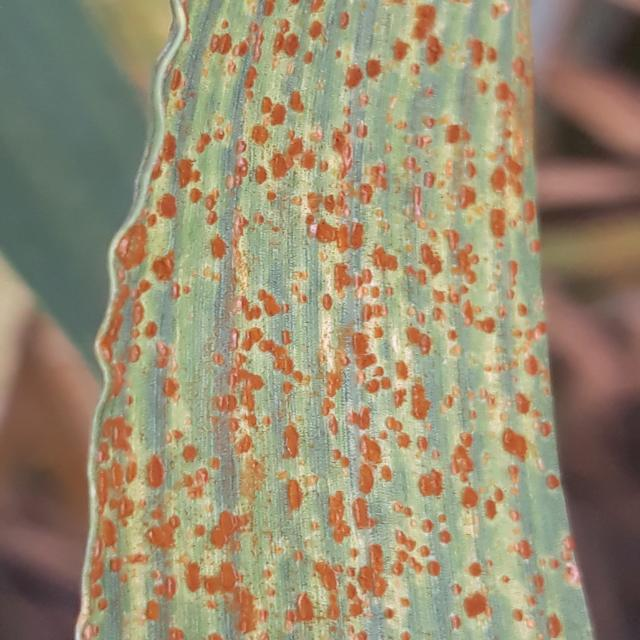orang_rust: (75, 0, 608, 640)
